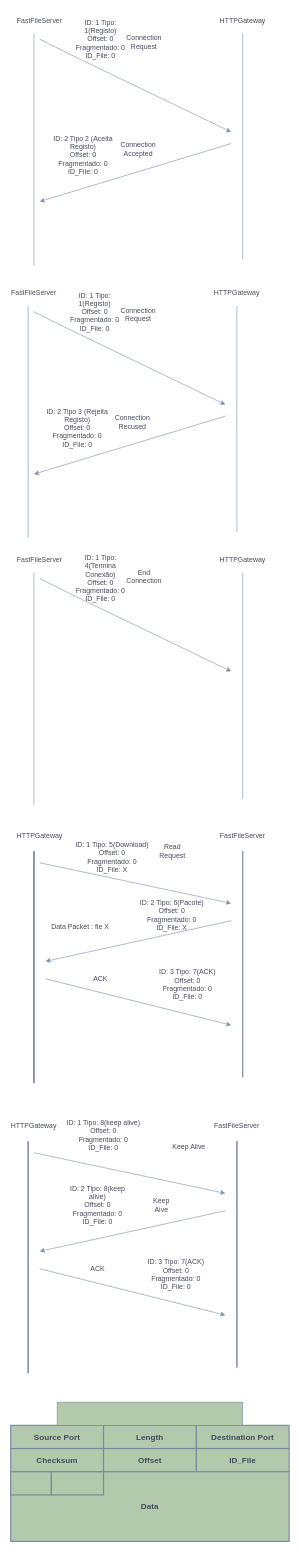
The diagram is 299 pixels wide and 1552 high, and some of its shapes have lost their labels. The shapes that lost their labels are listed below. From the top down, each one's box as (x1, y1, x2, y2) in pixels, then its label:
(57, 1402, 243, 1425): FS Chunk
(10, 1471, 52, 1495): Fragment
(50, 1471, 104, 1495): Tipo
